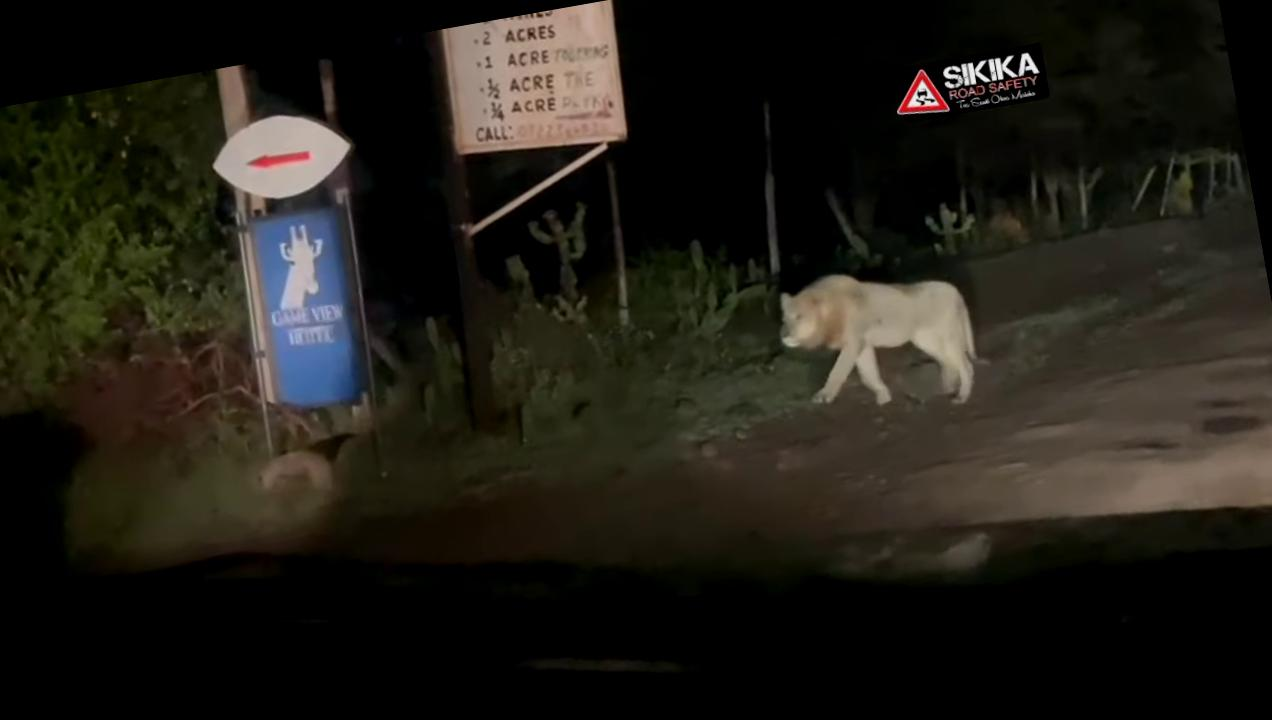lions: (759, 236, 1000, 442)
